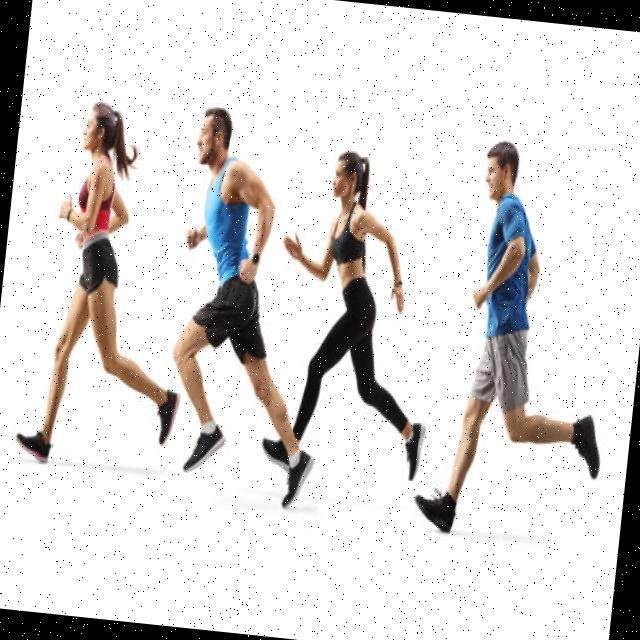Person: (412, 135, 632, 548), (157, 107, 350, 510), (13, 96, 208, 478), (260, 144, 454, 482)
